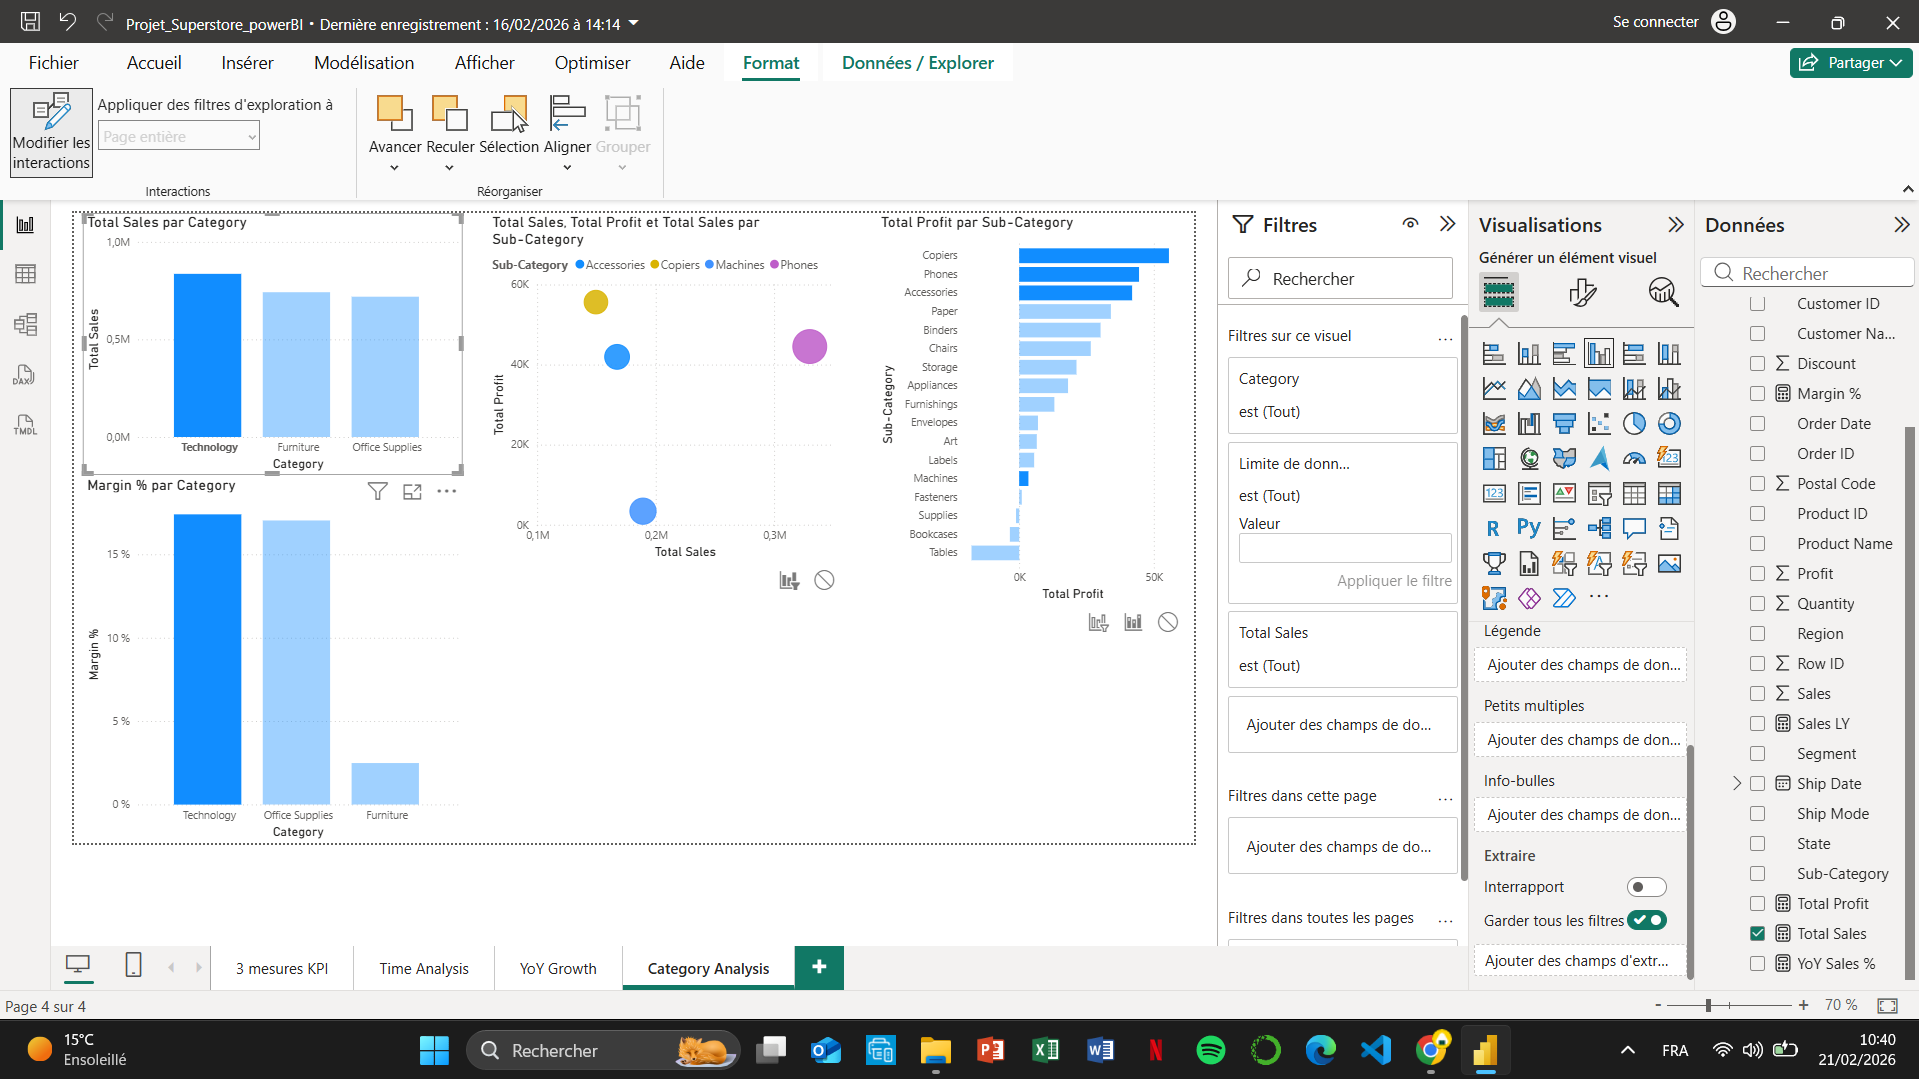

This screenshot's page, from the dashboard's own definition file:
{"tool":"powerbi","page":{"name":"Category Analysis","canvas":[1280,720],"ordinal":3},"visuals":[{"type":"clusteredColumnChart","fields":{"Category":["Fact_Sales.Category"],"Y":["Fact_Sales.Total Sales"]},"box":[10,0,434.3,300],"z":0},{"type":"clusteredBarChart","fields":{"Category":["Fact_Sales.Sub-Category"],"Y":["Fact_Sales.Total Profit"]},"box":[917.1,0,362.9,448.6],"z":1},{"type":"clusteredColumnChart","fields":{"Category":["Fact_Sales.Category"],"Y":["Fact_Sales.Margin %"]},"box":[10,300,434.3,420],"z":2},{"type":"scatterChart","fields":{"X":["Fact_Sales.Total Sales"],"Y":["Fact_Sales.Total Profit"],"Series":["Fact_Sales.Sub-Category"],"Size":["Fact_Sales.Total Sales"]},"box":[472.9,0,414.3,400],"z":3}]}

Visuals, with their boxes on the page's 1280x720 design canvas (x1, y1, x2, y2). These are canvas units, not pixel positions in the 1919x1079 screenshot, which may show the page scaled, cropped or inside an application window:
clusteredColumnChart - Fact_Sales.Category x Fact_Sales.Total Sales: 10/0/444/300
clusteredBarChart - Fact_Sales.Sub-Category x Fact_Sales.Total Profit: 917/0/1280/449
clusteredColumnChart - Fact_Sales.Category x Fact_Sales.Margin %: 10/300/444/720
scatterChart - Fact_Sales.Total Sales x Fact_Sales.Total Profit: 473/0/887/400
